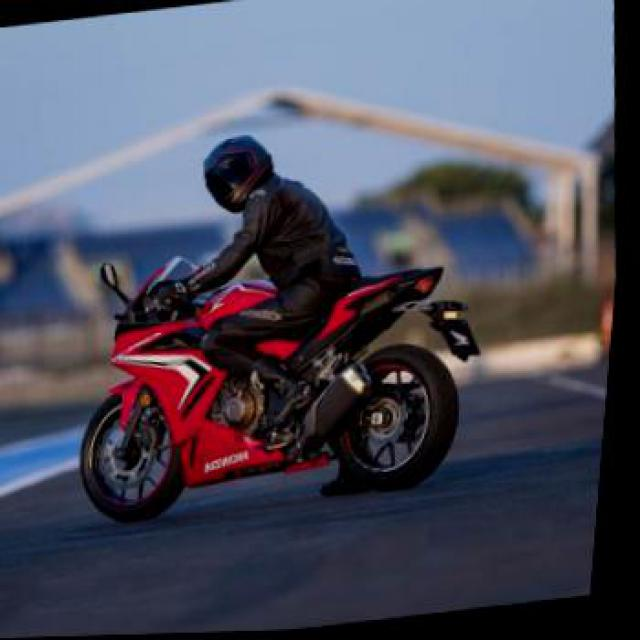CBR500R: (63, 221, 484, 527)
